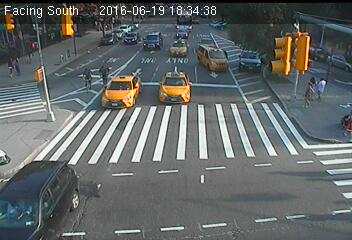neg: (46, 174, 72, 208), (197, 132, 221, 164), (132, 181, 154, 211), (210, 48, 230, 74), (211, 187, 231, 213), (108, 122, 127, 148), (272, 151, 291, 176), (162, 76, 181, 100), (238, 85, 255, 109), (46, 101, 62, 122), (61, 15, 76, 34), (66, 44, 79, 60), (102, 27, 112, 40), (149, 32, 158, 43)
pos: (79, 65, 99, 93), (299, 81, 319, 107), (314, 76, 332, 100), (307, 75, 324, 98), (97, 61, 114, 83), (3, 55, 20, 77), (11, 56, 26, 77)
